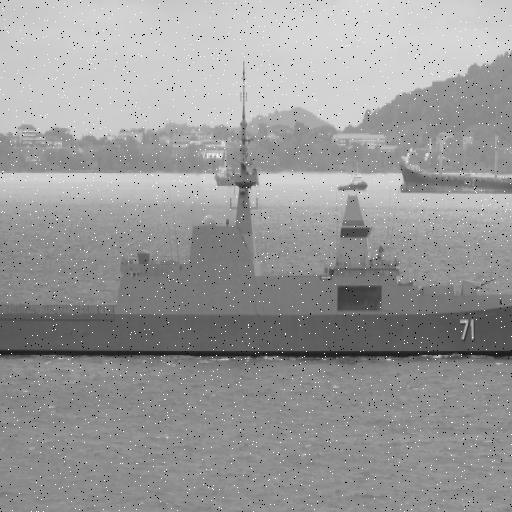Fragata: (1, 51, 512, 363)
